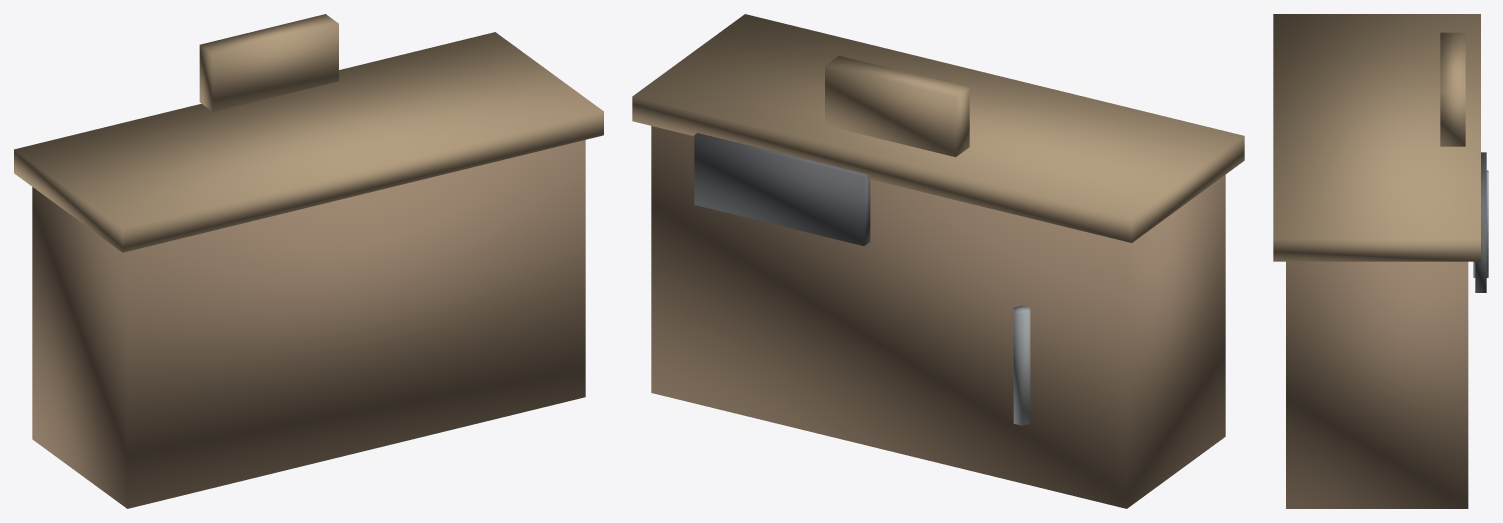
File: judge_bench__service.glb
The picture shows the model from 3 angles, left to right: view 1: azimuth 30°, elevation 25°; view 2: azimuth 150°, elevation 25°; view 3: azimuth 270°, elevation 25°; orthographic projection. The views are drawn at different scales.
Parts seen in each view (by area): view 1: world; view 2: world; view 3: world.
Part boxes in pixels (x1=…): world: x1=14, y1=14, x2=603, y2=508; world: x1=632, y1=14, x2=1244, y2=508; world: x1=1273, y1=14, x2=1488, y2=508.
Bounding box in the file's own units: 2.1 × 1.48 × 0.8503.
